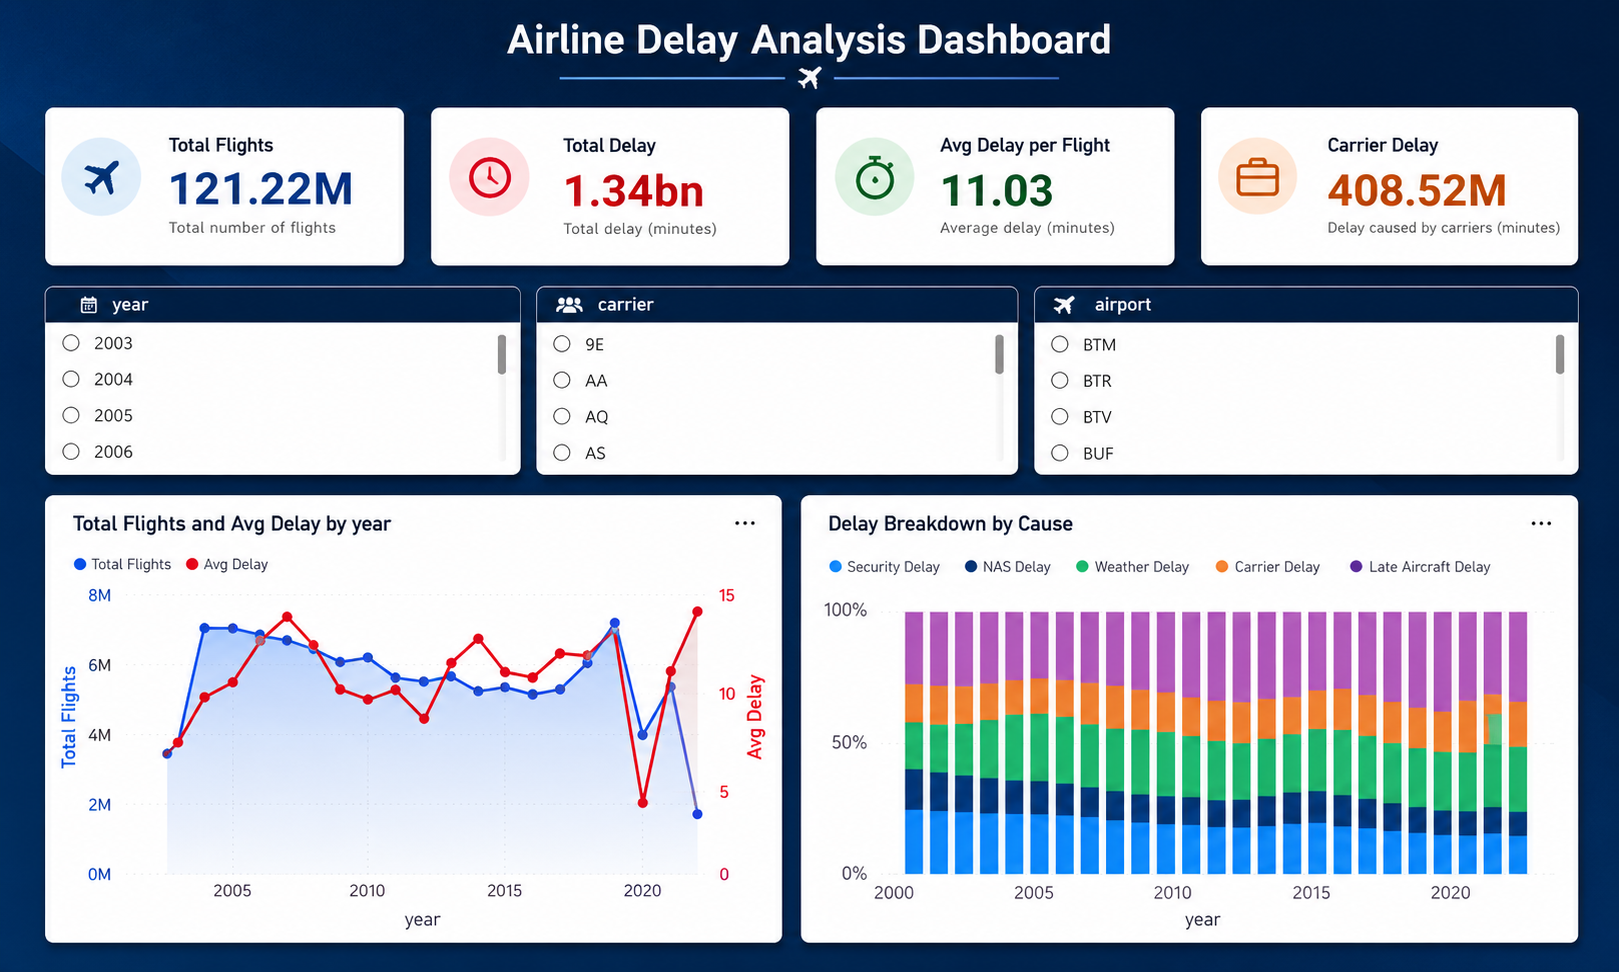

The dashboard page shown, as its layout file describes it:
{"tool":"powerbi","page":{"name":"Page 1","canvas":[1280,720],"ordinal":0},"visuals":[{"type":"cardVisual","title":"Total Flights","fields":{"Data":["dwh dim_airport.Total Flights"]},"box":[54.8,78.6,281,127.4],"z":0},{"type":"cardVisual","title":"Total Delay","fields":{"Data":["dwh dim_airport.Total Delay"]},"box":[358.3,78.6,252.4,127.4],"z":1000},{"type":"cardVisual","title":"Avg Delay per Flight","fields":{"Data":["dwh dim_airport.Avg Delay per Flight"]},"box":[640.5,78.6,275,127.4],"z":2000},{"type":"cardVisual","title":"Carrier Delay","fields":{"Data":["dwh dim_airport.Carrier Delay"]},"box":[935.7,78.6,289.3,127.4],"z":3000},{"type":"lineChart","fields":{"Category":["dwh fact_flights.year"],"Y":["dwh dim_airport.Total Flights"],"Y2":["dwh dim_airport.Avg Delay"]},"box":[29.8,385.7,610.7,334.5],"z":10001},{"type":"hundredPercentStackedColumnChart","title":"Delay Breakdown by Cause","fields":{"Category":["dwh fact_flights.year"],"Y":["Sum(dwh fact_flights.nas_delay)","Sum(dwh fact_flights.weather_delay)","Sum(dwh fact_flights.carrier_delay)","Sum(dwh fact_flights.late_aircraft_delay)"]},"box":[686.9,385.7,559.5,334.5],"z":10002},{"type":"listSlicer","fields":{"Values":["dwh fact_flights.year"]},"box":[54.8,226.2,394,150],"z":10003},{"type":"listSlicer","fields":{"Values":["dwh fact_flights.carrier"]},"box":[458.3,226.2,392.9,150],"z":10004},{"type":"listSlicer","fields":{"Values":["dwh fact_flights.airport"]},"box":[859.5,226.2,365.5,150],"z":10005},{"type":"textbox","box":[370.2,0,481,50],"z":10006}]}

Visuals, with their boxes on the page's 1280x720 design canvas (x1, y1, x2, y2). These are canvas units, not pixel positions in the 1619x972 screenshot, which may show the page scaled, cropped or inside an application window:
"Total Flights" cardVisual: 55:79:336:206
"Total Delay" cardVisual: 358:79:611:206
"Avg Delay per Flight" cardVisual: 640:79:916:206
"Carrier Delay" cardVisual: 936:79:1225:206
lineChart - dwh fact_flights.year x dwh dim_airport.Total Flights: 30:386:640:720
"Delay Breakdown by Cause" hundredPercentStackedColumnChart: 687:386:1246:720
listSlicer - dwh fact_flights.year: 55:226:449:376
listSlicer - dwh fact_flights.carrier: 458:226:851:376
listSlicer - dwh fact_flights.airport: 860:226:1225:376
textbox: 370:0:851:50
